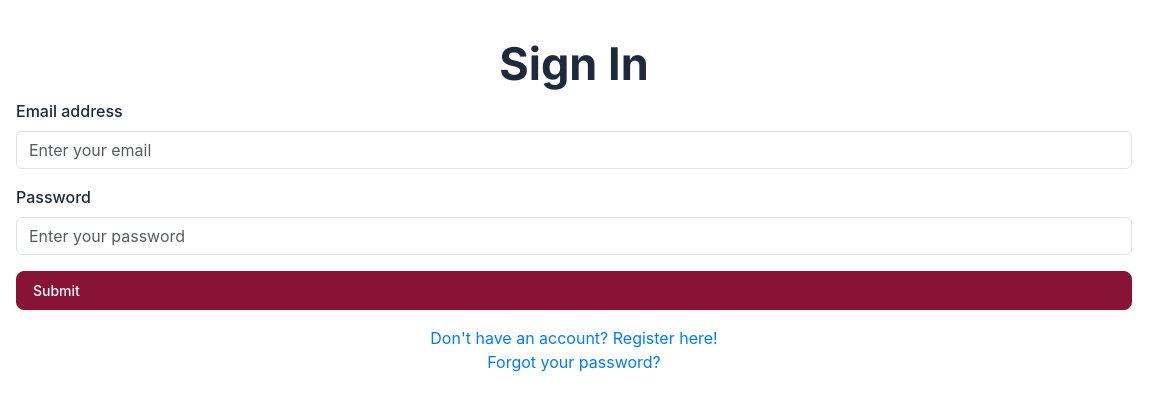
LoginPage › displays error message when login fails
The width and height of the screenshot is (1149, 420).
Type "test@example.com" into the field with placeholder "Enter your email" at (574, 150), box [16,131,1132,169]
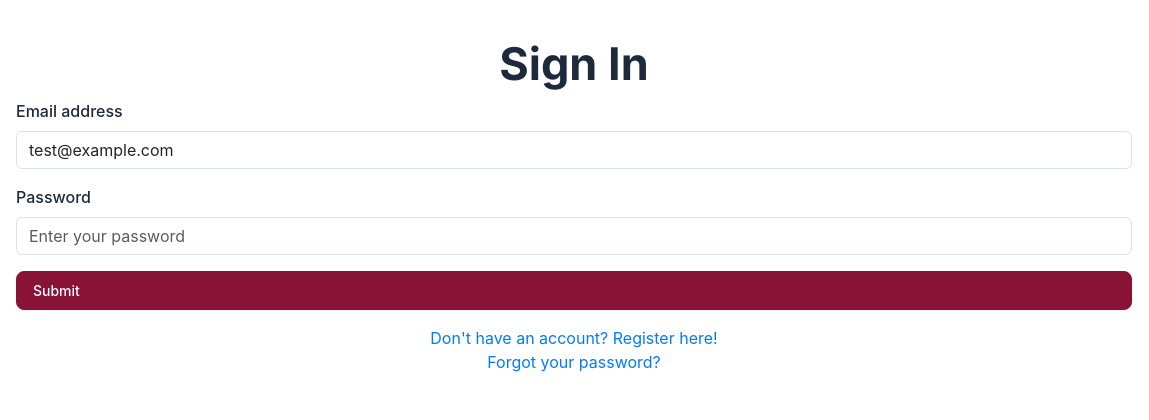
Type "password123" into the password field with placeholder "Enter your password" at (574, 236), box [16,217,1132,255]
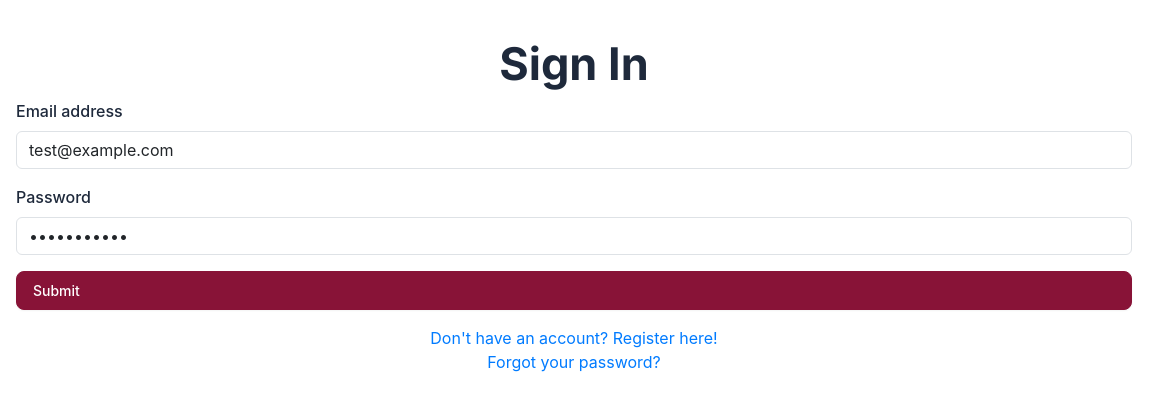
Click the button "Submit" at (56, 290), box [16,271,1132,310]
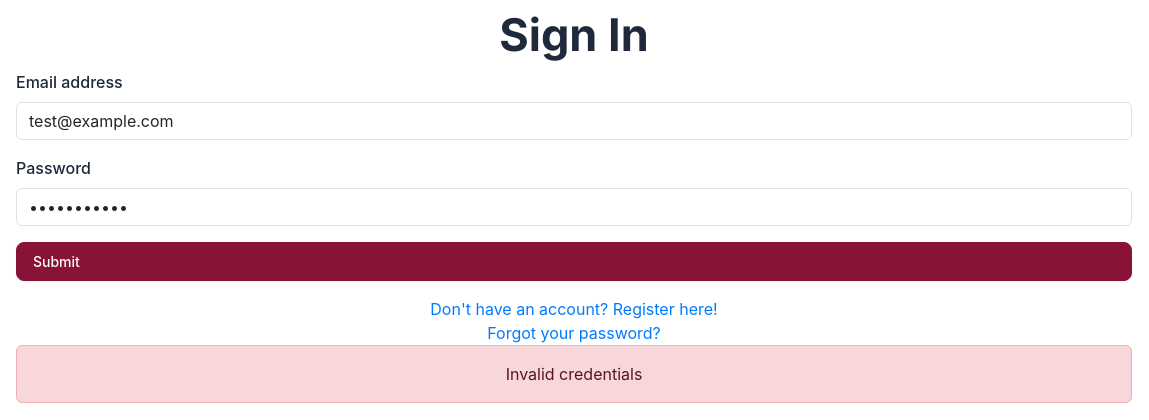
Expected: the text "Invalid credentials" is shown, [16,345,1132,403]
